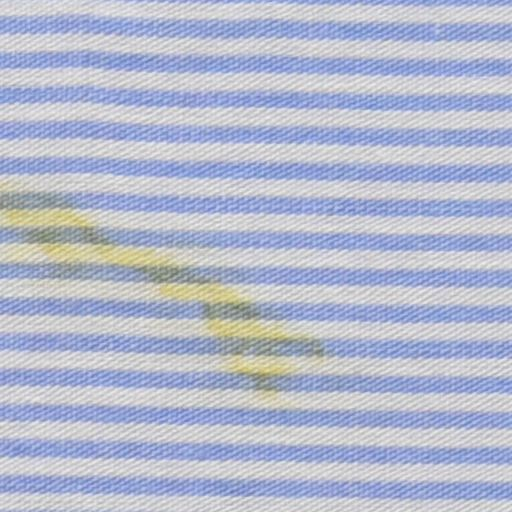defect: (1, 179, 324, 402)
